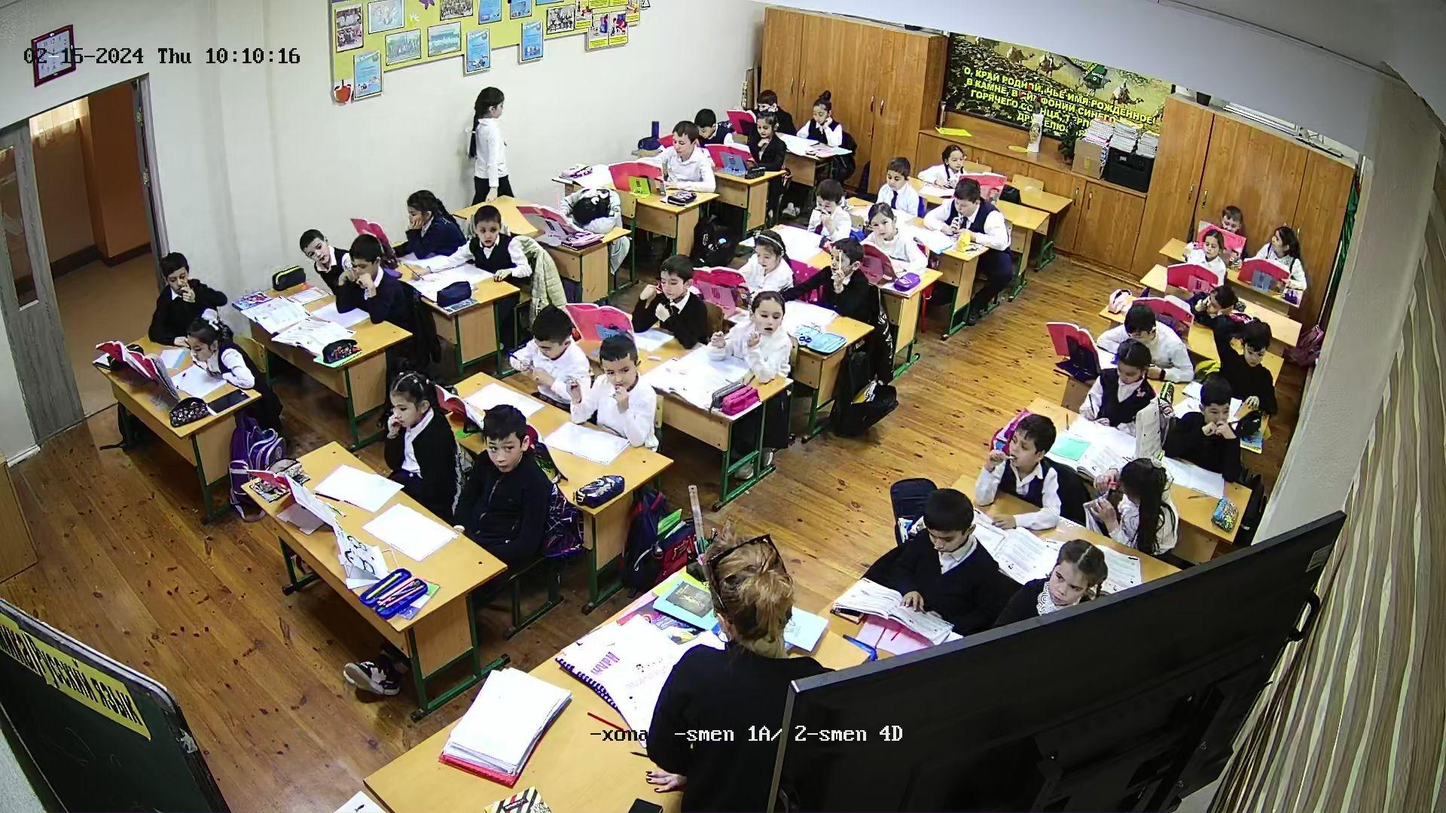Look Around: (1093, 457, 1174, 511), (154, 250, 209, 305), (1197, 382, 1243, 438), (466, 211, 513, 258), (294, 229, 336, 276)
Normal: (805, 91, 843, 148)
Stand Up: (465, 82, 522, 195)
